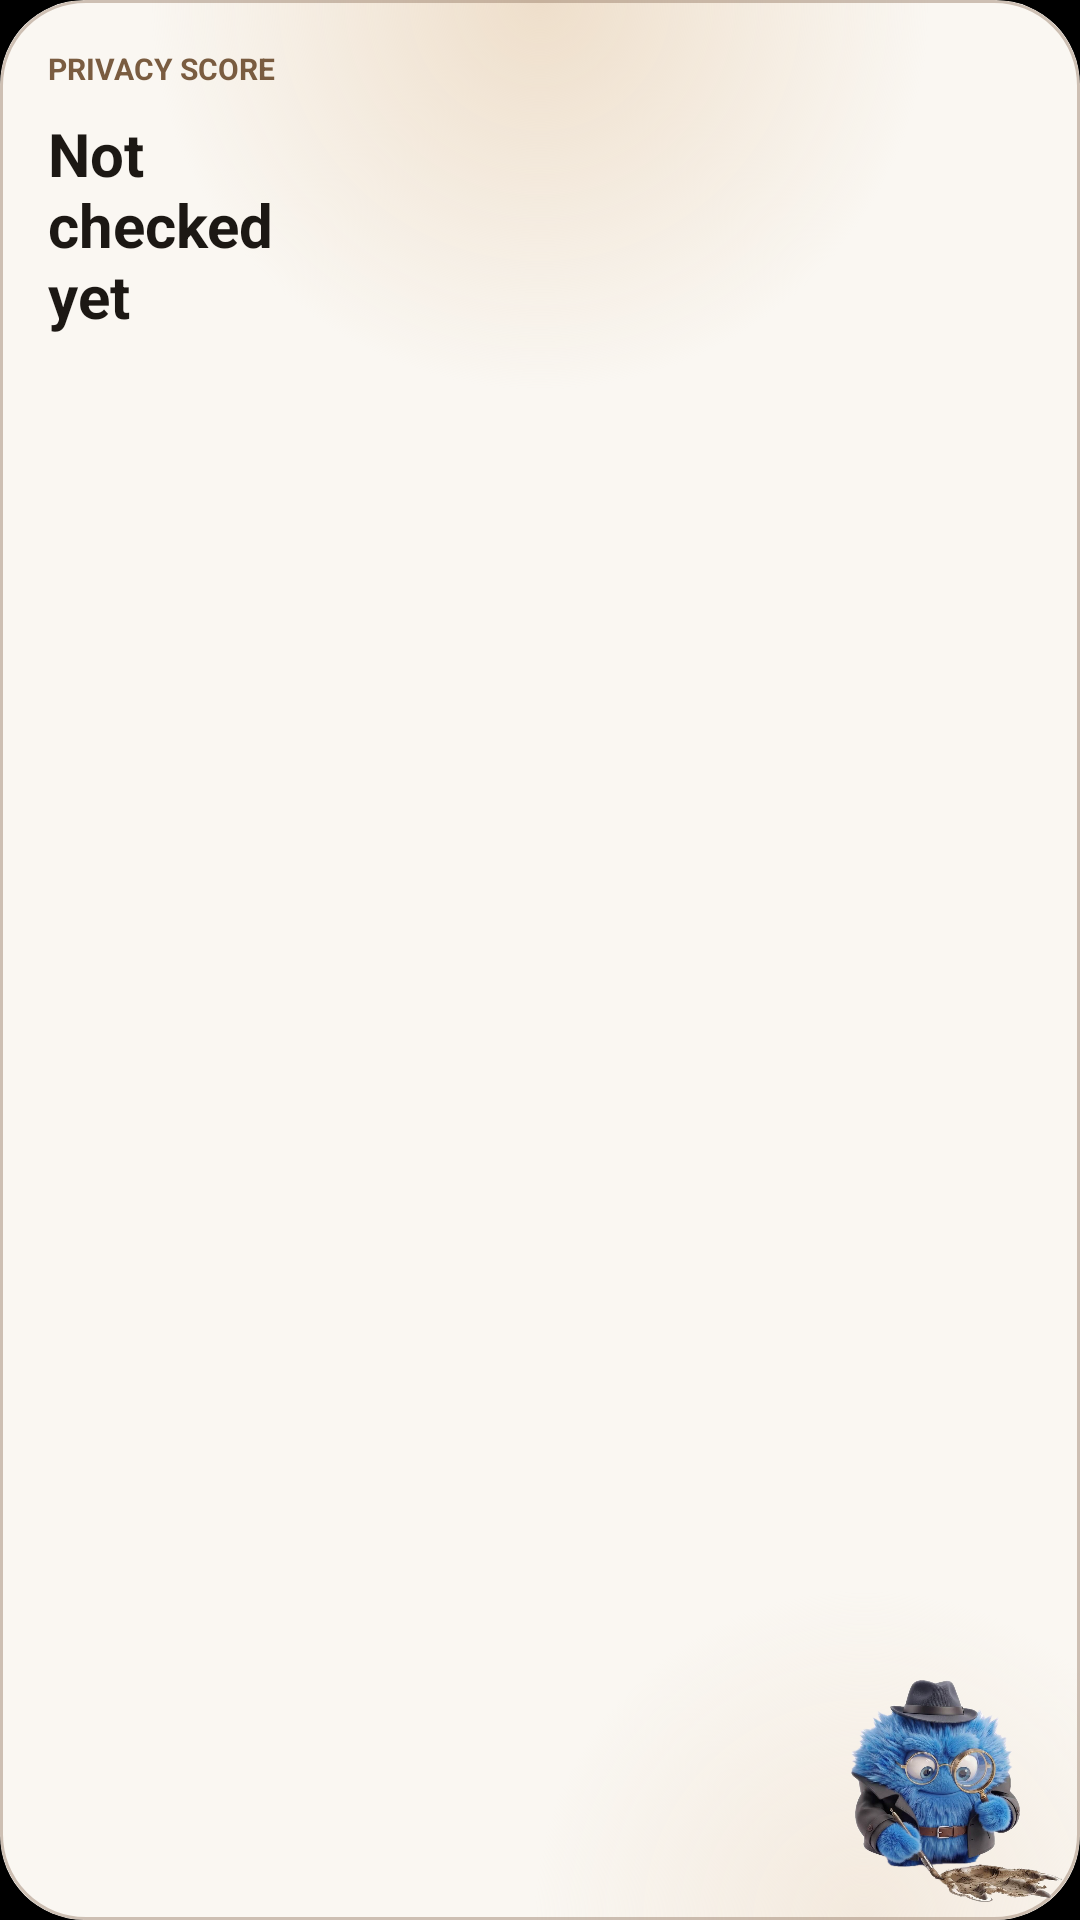

Icon click points for this 1080w x 1920h phone screenshot, format [x,y]:
widget mascot: [956,1791]
